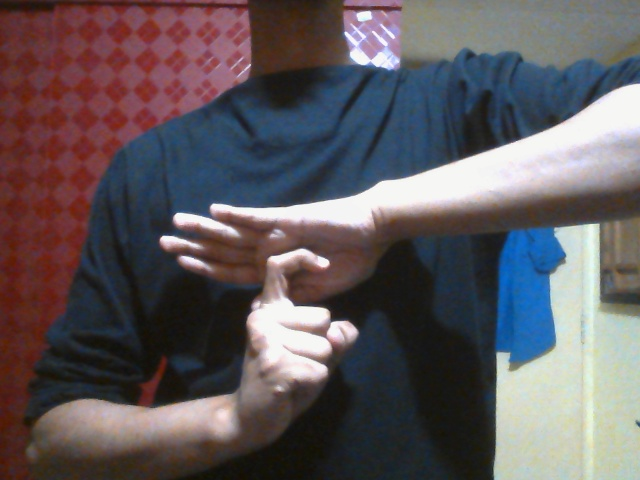R: (156, 198, 401, 433)
